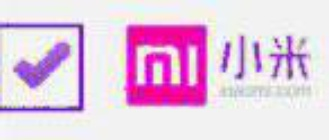CheckBox: (1, 1, 328, 139)
